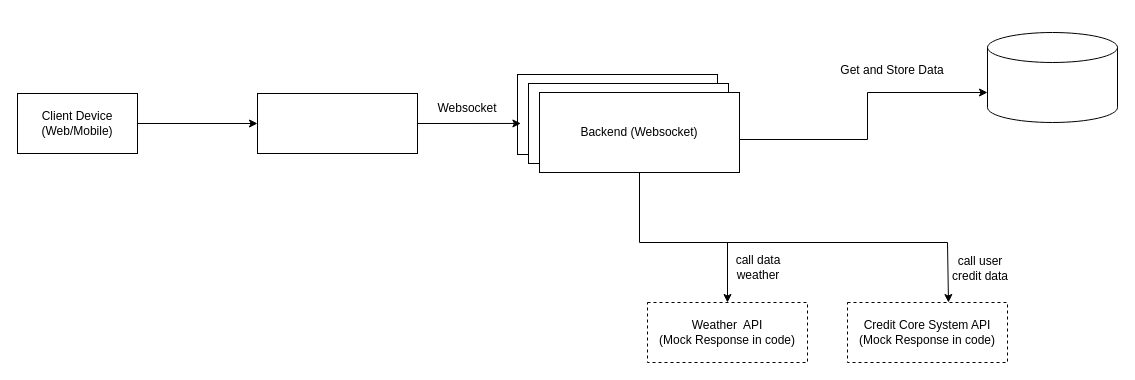
Image size: 1135x380. Some labels were removed from this diagram. The shapes that lost their labels are listed below. From the top down, each one's centre as x and y in pixels, then its label:
At (x=1052, y=77): "mock data ( message , feedback)".
At (x=337, y=123): "Frontend (Next.js) Chat UI".
